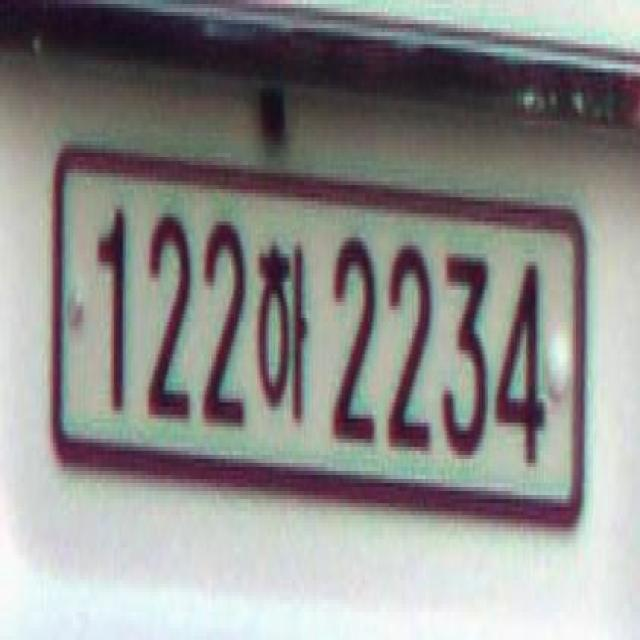illegal_plate: (48, 135, 587, 573)
